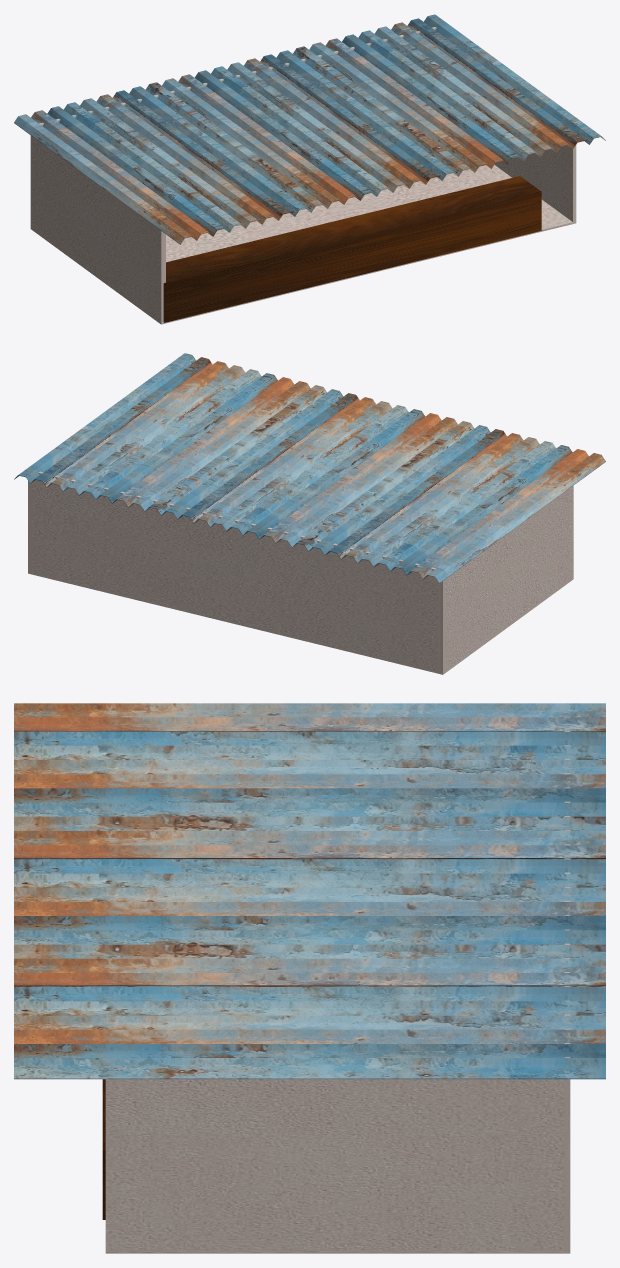
Rendered from market shop.fbx.
3 views of the same model, one above another, from view 1: azimuth 30°, elevation 25°; view 2: azimuth 150°, elevation 25°; view 3: azimuth 270°, elevation 25° (orthographic). The views are drawn at different scales.
Parts seen in each view (by area): view 1: Plane, Cube, Cube.001; view 2: Plane, Cube; view 3: Plane, Cube.
Boxes of the visible parts, bbox=[...] form: Plane: bbox=[14, 14, 605, 244]; Cube: bbox=[30, 27, 576, 324]; Cube.001: bbox=[163, 176, 541, 322]; Plane: bbox=[14, 353, 605, 583]; Cube: bbox=[28, 471, 573, 674]; Plane: bbox=[14, 703, 605, 1079]; Cube: bbox=[105, 716, 570, 1253].
Bounding box in the file's own units: 2277 × 543 × 1544.
